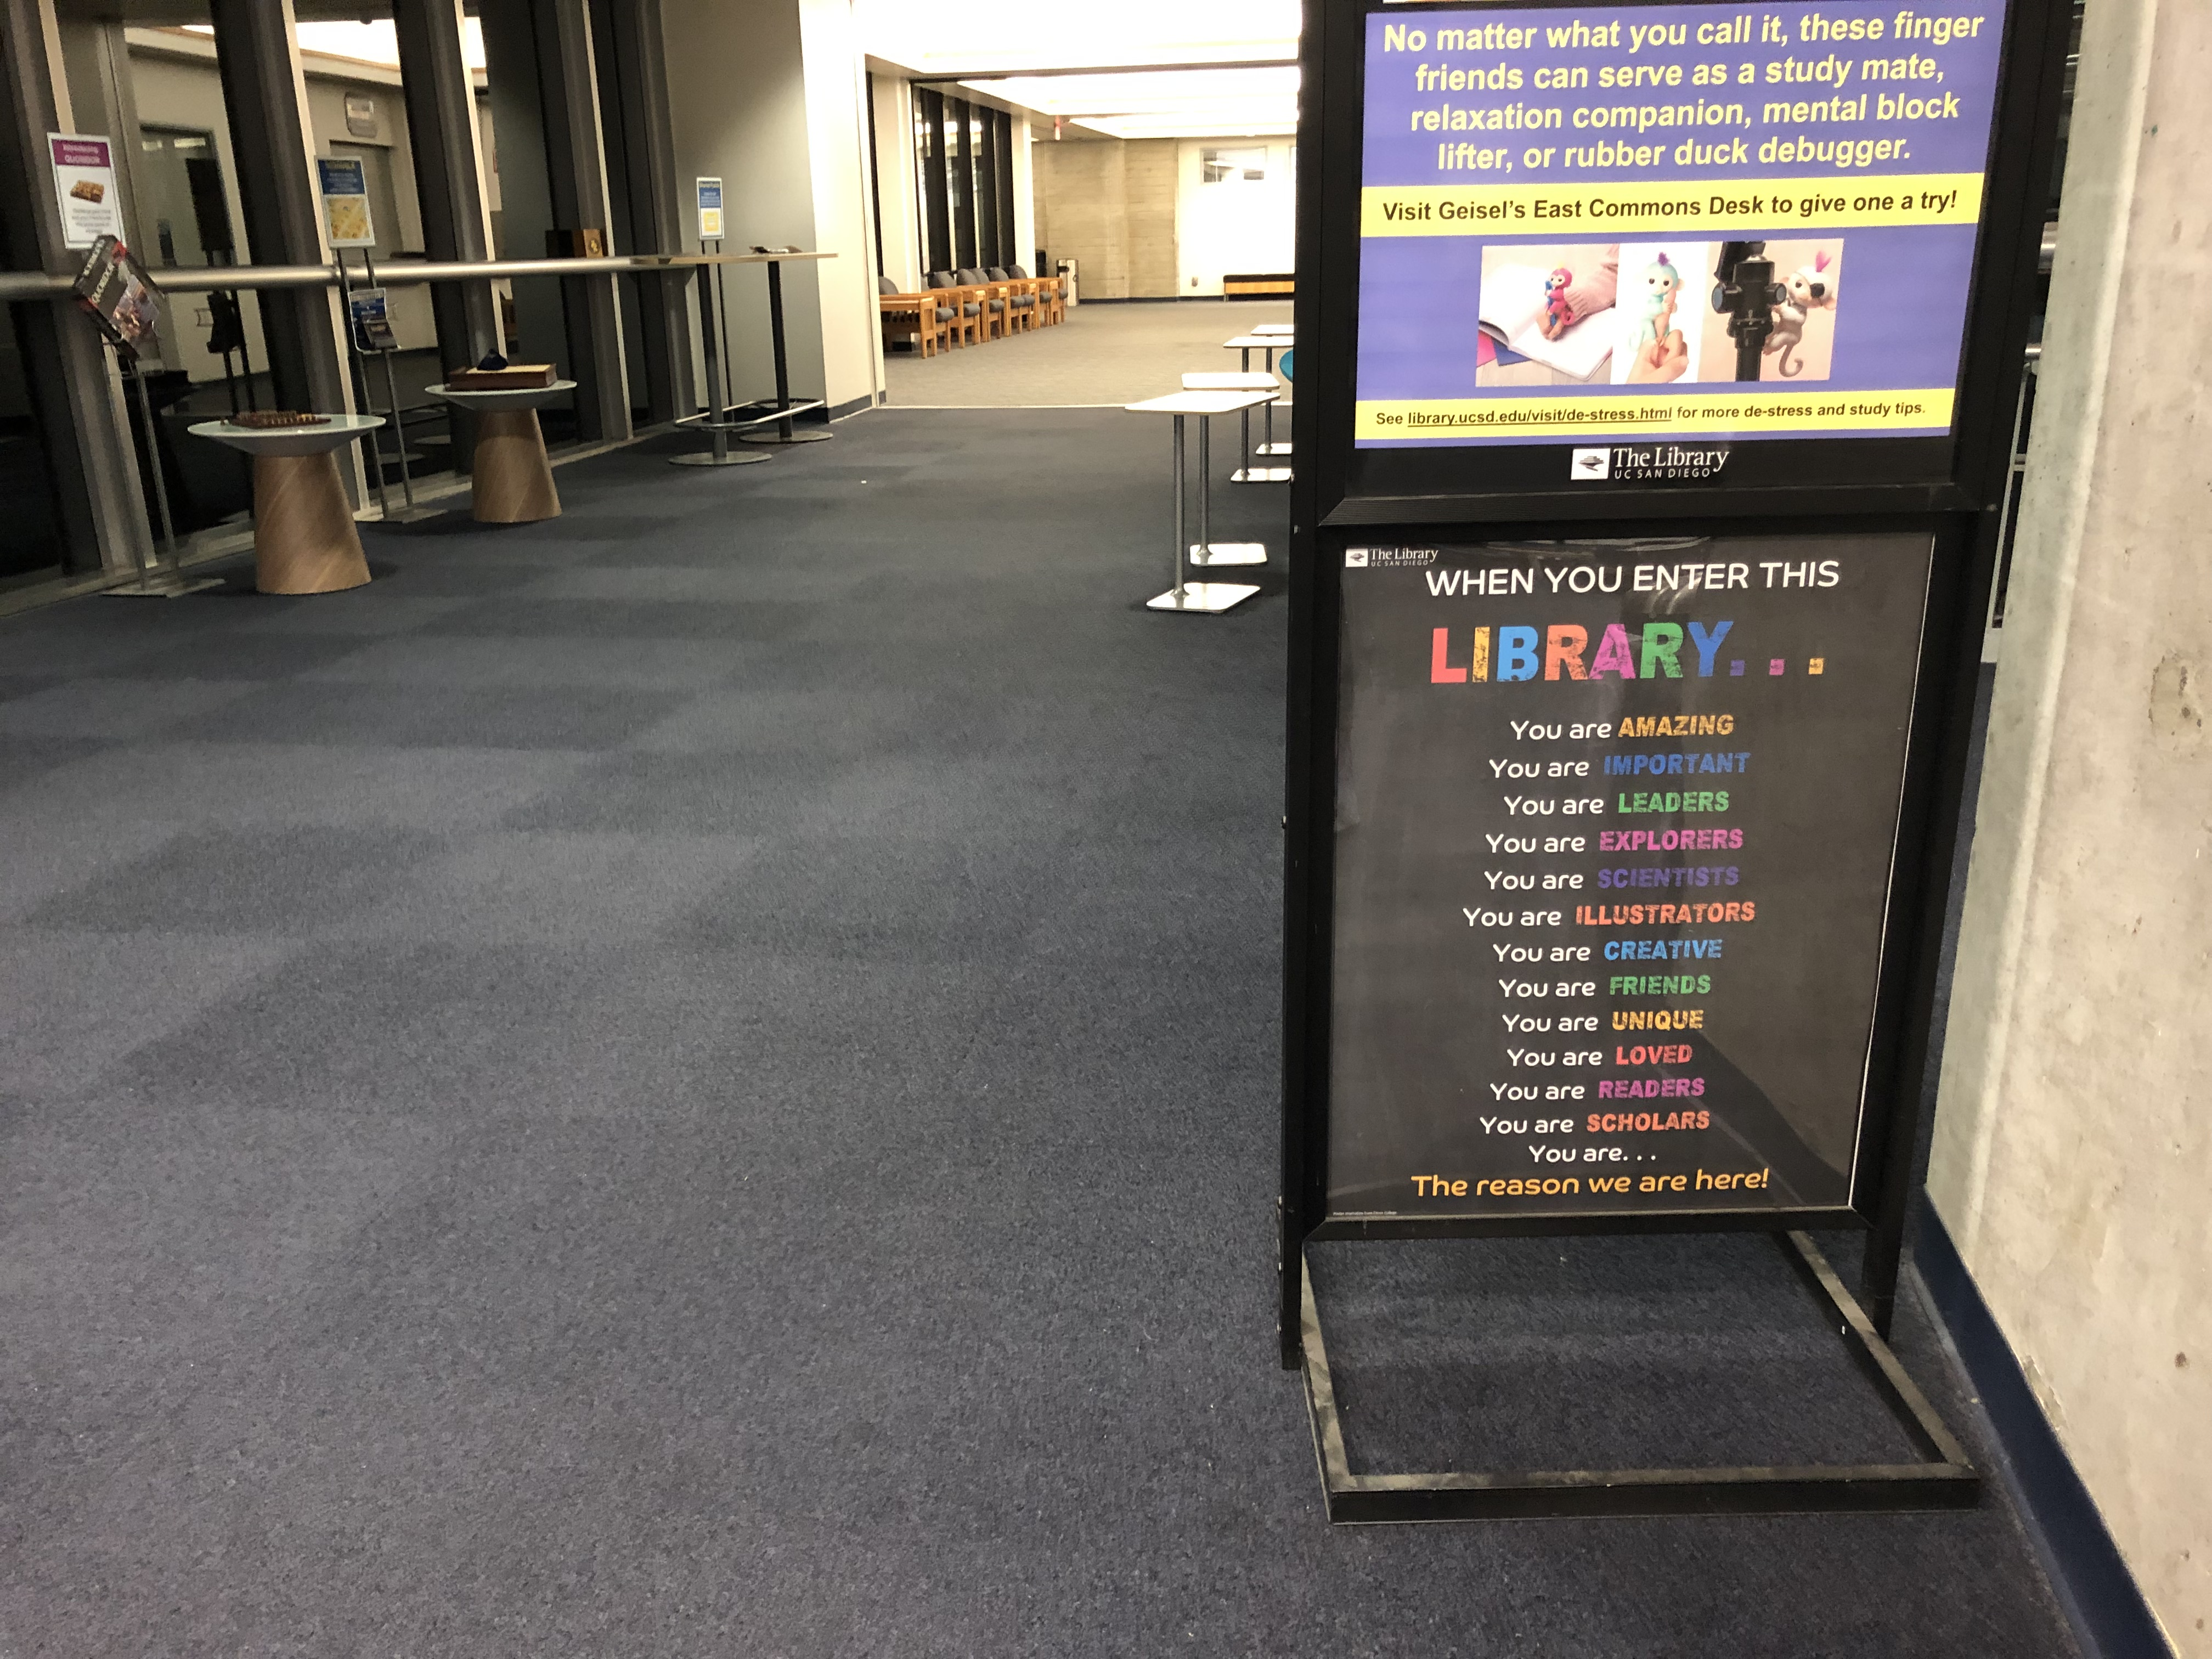Obstacle: (1223, 16, 2127, 1547), (38, 117, 432, 638), (643, 179, 937, 455), (1101, 328, 1271, 647), (406, 359, 650, 538)
